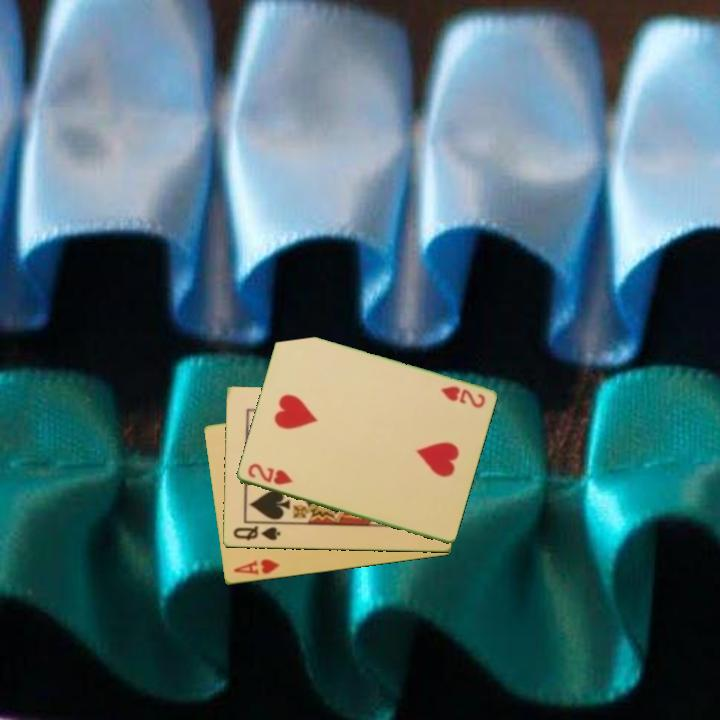2h: (244, 460, 296, 488), (436, 383, 488, 411)
Ah: (230, 556, 282, 578)
Qs: (229, 522, 283, 544)
